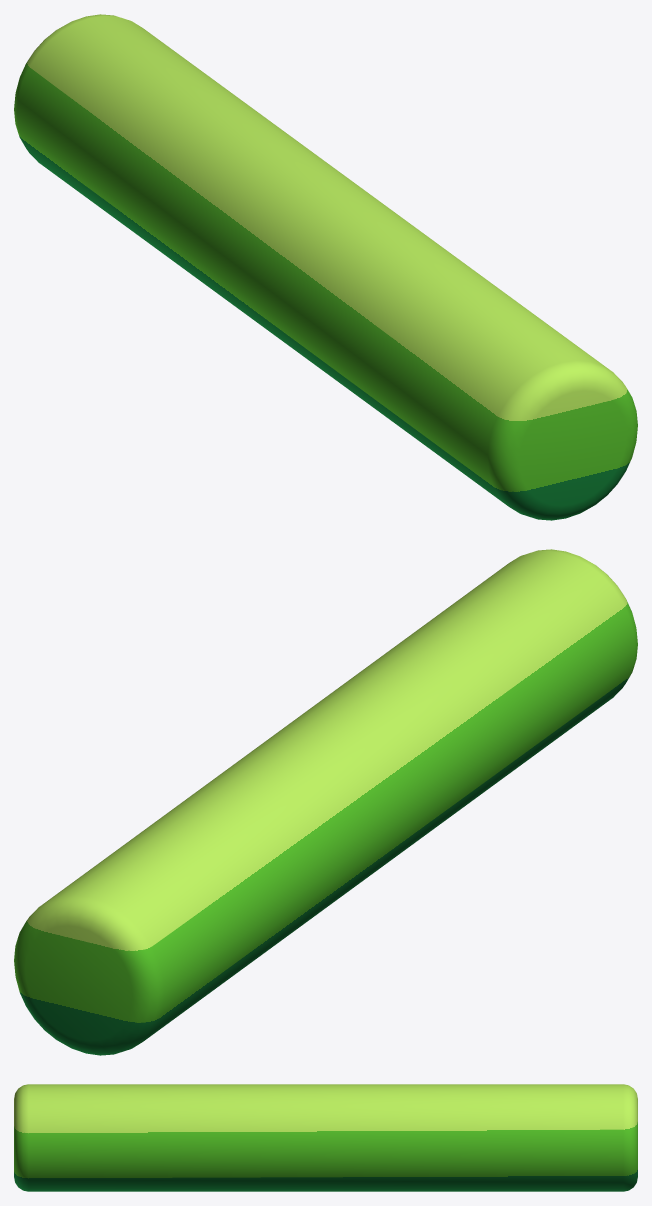
File: log2.fbx
3 views of the same model, one above another, from view 1: azimuth 30°, elevation 25°; view 2: azimuth 150°, elevation 25°; view 3: azimuth 270°, elevation 25° (orthographic). The views are drawn at different scales.
Visible parts, largest first — view 1: Cylinder.001; view 2: Cylinder.001; view 3: Cylinder.001.
Boxes of the visible parts, x1,y1,x2,y2 form: Cylinder.001: (14,14,637,520); Cylinder.001: (14,549,637,1055); Cylinder.001: (14,1084,637,1191).
Bounding box in the file's own units: 200 × 200 × 1160.
1 material, 1 textured.
